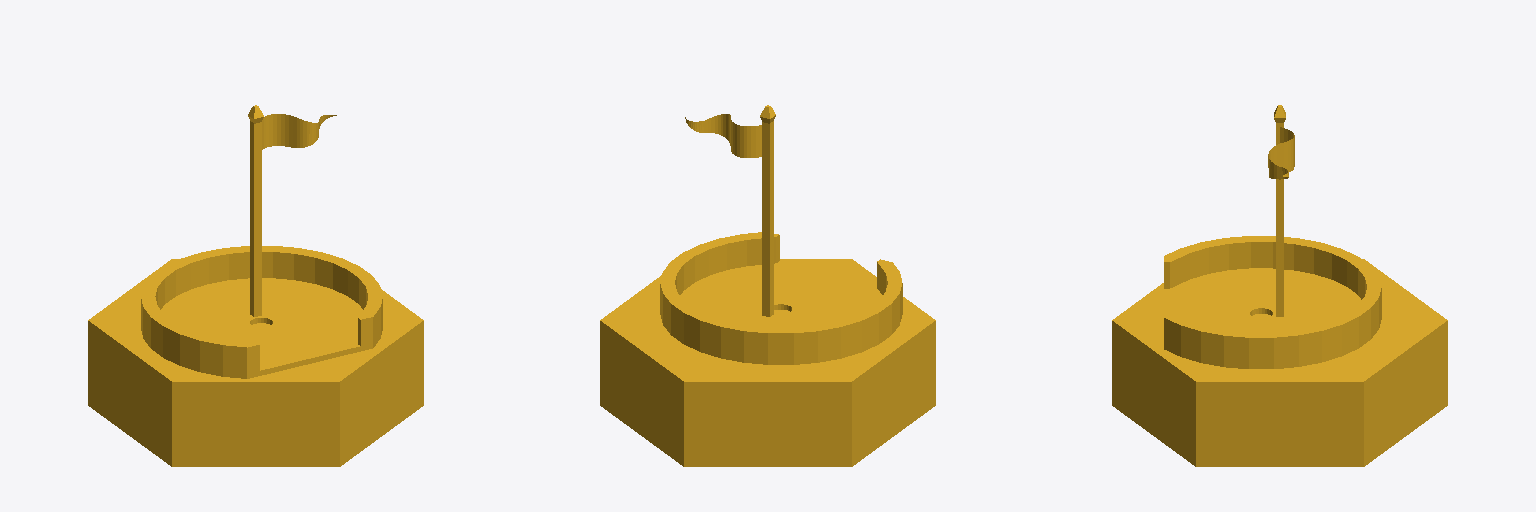
Rendered from Trophy.obj.
3 views of the same model, side by side, from view 1: azimuth 30°, elevation 25°; view 2: azimuth 150°, elevation 25°; view 3: azimuth 270°, elevation 25° (orthographic).
Parts seen in each view (by area): view 1: mergedBlocks; view 2: mergedBlocks; view 3: mergedBlocks.
Part boxes in pixels (x1,y1,x2,y2): mergedBlocks: (88,105,423,466); mergedBlocks: (600,105,935,466); mergedBlocks: (1112,105,1447,466).
Size of the model in its own units: 1 by 1.14 by 1.15.